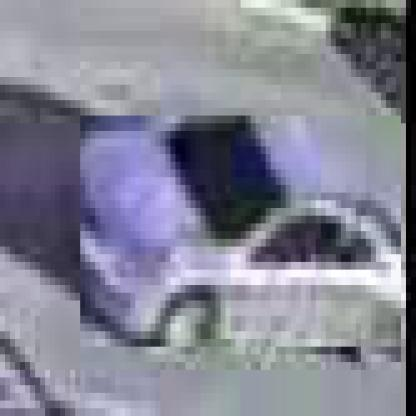car: (81, 117, 407, 356)
